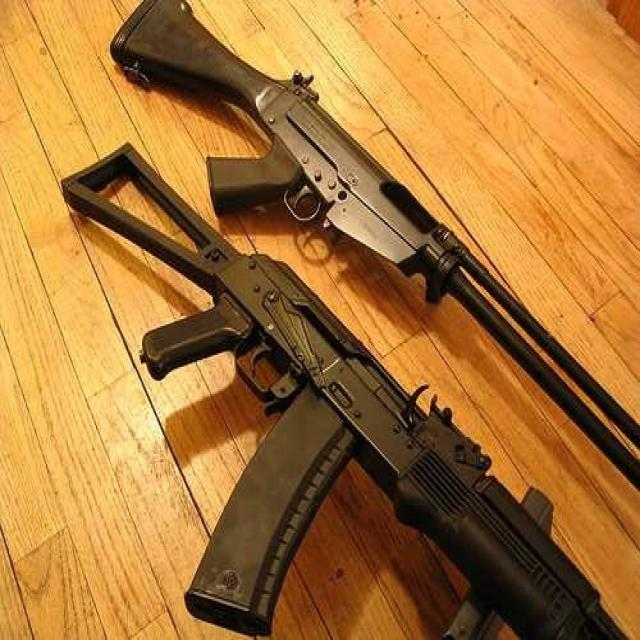weapon: (44, 116, 624, 640), (109, 1, 640, 482)
